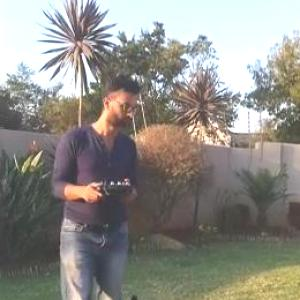follow: (51, 67, 145, 299)
